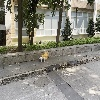fire: (41, 51, 49, 60)
